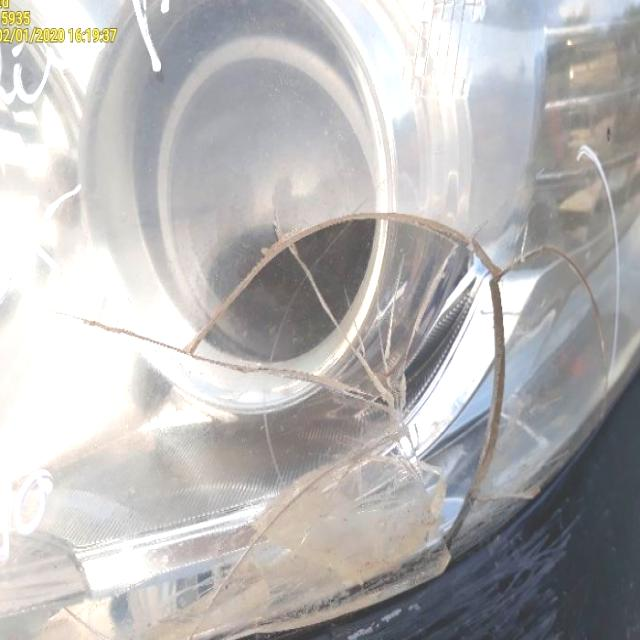Phare abime: (67, 153, 614, 640)
